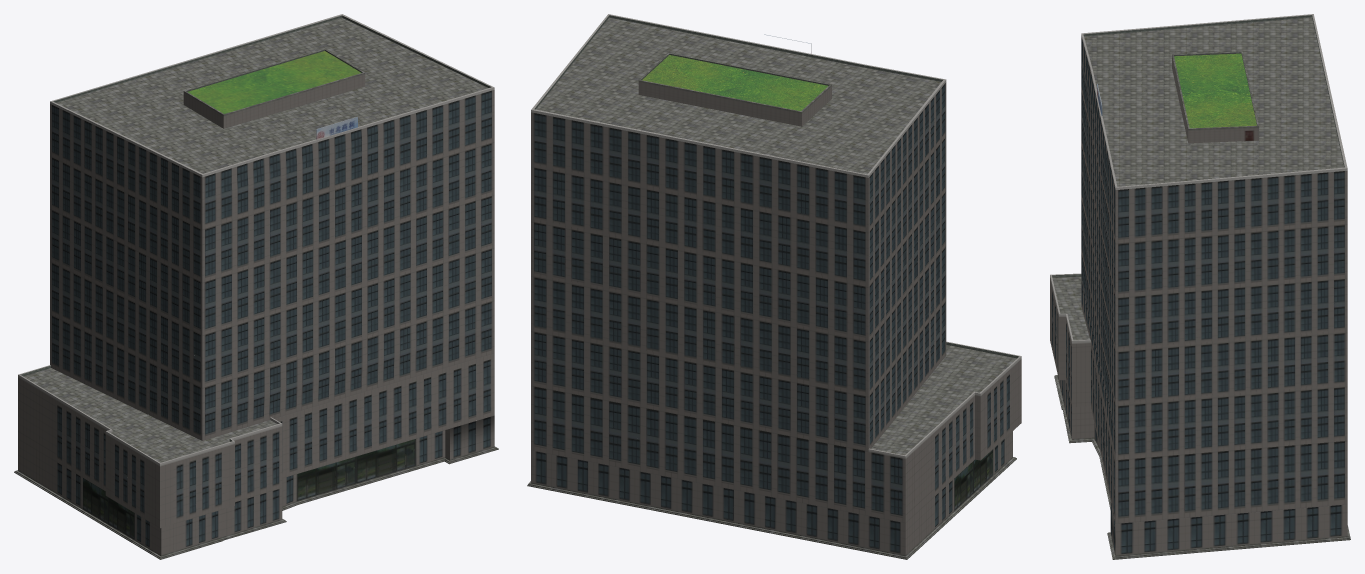
The picture shows the model from 3 angles, left to right: view 1: azimuth 30°, elevation 25°; view 2: azimuth 150°, elevation 25°; view 3: azimuth 270°, elevation 25°; orthographic projection. The views are drawn at different scales.
Visible parts, largest first — view 1: C001-I001-Ding, C001-I001-F003, C001-I001-F001, C001-I001-F002, C001-I001-F005, C001-I001-F004, C001-I001-F006, C001-I001-F010, C001-I001-F011, C001-I001-F008, C001-I001-F009, C001-I001-F007 (+2 smaller); view 2: C001-I001-Ding, C001-I001-F003, C001-I001-F001, C001-I001-F002, C001-I001-F004, C001-I001-F005, C001-I001-F006, C001-I001-F009, C001-I001-F011, C001-I001-F007, C001-I001-F008, C001-I001-F010 (+2 smaller); view 3: C001-I001-Ding, C001-I001-F003, C001-I001-F001, C001-I001-F002, C001-I001-F005, C001-I001-F004, C001-I001-F007, C001-I001-F006, C001-I001-F008, C001-I001-F009, C001-I001-F010, C001-I001-F011 (+2 smaller).
Part boxes in pixels (x1=…): C001-I001-Ding: x1=50, y1=14, x2=494, y2=177; C001-I001-F003: x1=18, y1=353, x2=494, y2=496; C001-I001-F001: x1=14, y1=415, x2=498, y2=559; C001-I001-F002: x1=18, y1=384, x2=494, y2=528; C001-I001-F005: x1=50, y1=298, x2=494, y2=413; C001-I001-F004: x1=50, y1=326, x2=494, y2=440; C001-I001-F006: x1=50, y1=271, x2=494, y2=385; C001-I001-F010: x1=50, y1=166, x2=494, y2=279; C001-I001-F011: x1=50, y1=140, x2=494, y2=253; C001-I001-F008: x1=50, y1=219, x2=494, y2=332; C001-I001-F009: x1=50, y1=192, x2=494, y2=306; C001-I001-F007: x1=50, y1=245, x2=494, y2=359; C001-I001-Ding: x1=531, y1=14, x2=946, y2=177; C001-I001-F003: x1=531, y1=341, x2=1021, y2=490; C001-I001-F001: x1=527, y1=431, x2=1016, y2=559; C001-I001-F002: x1=531, y1=391, x2=1021, y2=523; C001-I001-F004: x1=531, y1=327, x2=946, y2=451; C001-I001-F005: x1=531, y1=298, x2=946, y2=422; C001-I001-F006: x1=531, y1=271, x2=946, y2=393; C001-I001-F009: x1=531, y1=189, x2=946, y2=311; C001-I001-F011: x1=531, y1=134, x2=946, y2=256; C001-I001-F007: x1=531, y1=244, x2=946, y2=366; C001-I001-F008: x1=531, y1=216, x2=946, y2=339; C001-I001-F010: x1=531, y1=161, x2=946, y2=284; C001-I001-Ding: x1=1081, y1=14, x2=1347, y2=189; C001-I001-F003: x1=1050, y1=273, x2=1347, y2=491; C001-I001-F001: x1=1054, y1=348, x2=1350, y2=559; C001-I001-F002: x1=1050, y1=309, x2=1347, y2=523; C001-I001-F005: x1=1081, y1=251, x2=1347, y2=431; C001-I001-F004: x1=1081, y1=279, x2=1347, y2=460; C001-I001-F007: x1=1081, y1=196, x2=1347, y2=376; C001-I001-F006: x1=1081, y1=224, x2=1347, y2=403; C001-I001-F008: x1=1081, y1=169, x2=1347, y2=349; C001-I001-F009: x1=1081, y1=142, x2=1347, y2=322; C001-I001-F010: x1=1081, y1=115, x2=1347, y2=295; C001-I001-F011: x1=1081, y1=88, x2=1347, y2=268.
Bounding box in the file's own units: 6.85 × 6.31 × 4.5.
4 materials, 4 textured.
